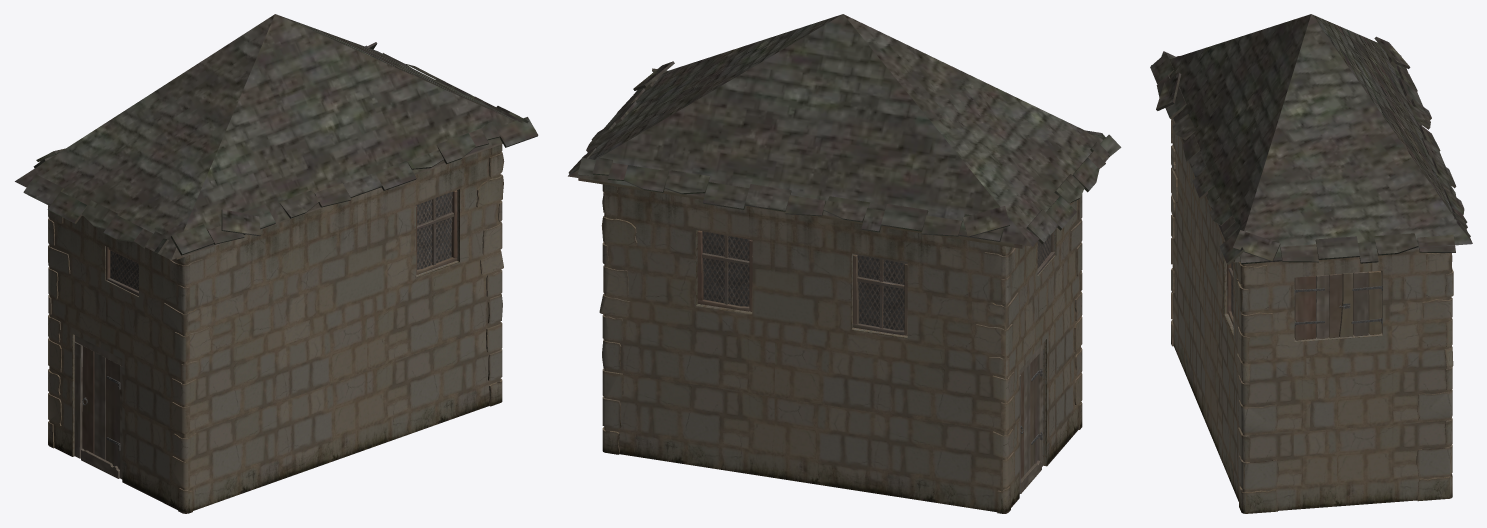
Rendered from House_Four.glb.
3 renders of one model, left to right at view 1: azimuth 30°, elevation 25°; view 2: azimuth 150°, elevation 25°; view 3: azimuth 270°, elevation 25°, orthographic. The views are drawn at different scales.
Parts seen in each view (by area): view 1: House_Four; view 2: House_Four; view 3: House_Four.
Part boxes in pixels (bbox=[...]): House_Four: bbox=[15, 14, 538, 513]; House_Four: bbox=[568, 14, 1121, 513]; House_Four: bbox=[1150, 14, 1472, 513].
Bounding box in the file's own units: 11 × 9.66 × 6.95.
5 materials, 5 textured.
